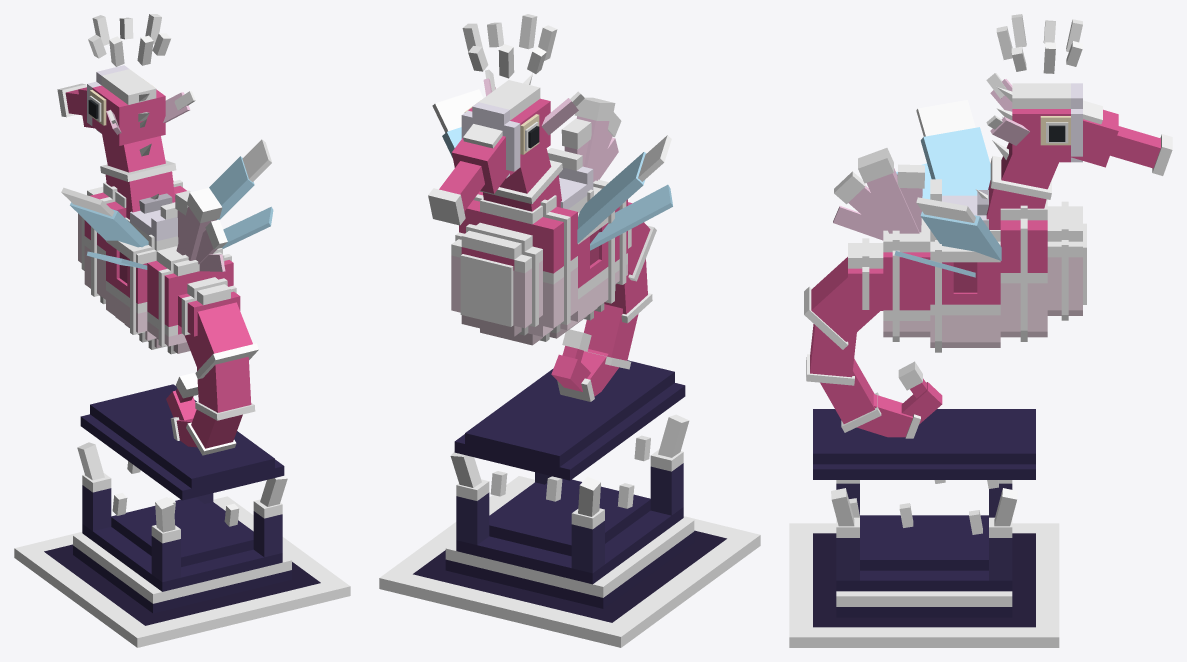
The model's file is SeahorseTrainer12.obj.
The picture shows the model from 3 angles, left to right: view 1: azimuth 30°, elevation 25°; view 2: azimuth 150°, elevation 25°; view 3: azimuth 270°, elevation 25°; orthographic projection. The views are drawn at different scales.
Parts seen in each view (by area): view 1: Stand, Body, Plate, Head, Wings, Fin, T1, T2, Crown, T3, Orbit, T5 (+1 smaller); view 2: Stand, Body, Plate, Head, Wings, Fin, Crown, T3, Orbit, T4, T2, T1 (+2 smaller); view 3: Stand, Body, Plate, Head, Wings, Fin, T1, Crown, T2, T3, T4, T5 (+2 smaller).
Part boxes in pixels (x1,y1,x2,y2): Stand: (14, 442, 350, 647); Body: (78, 119, 240, 354); Plate: (80, 384, 284, 500); Head: (57, 65, 195, 145); Wings: (61, 139, 273, 269); Fin: (175, 188, 227, 271); T1: (184, 302, 258, 379); T2: (195, 356, 255, 420); Crown: (88, 14, 170, 66); T3: (186, 409, 242, 455); Orbit: (112, 461, 239, 526); T5: (166, 390, 196, 420); Stand: (379, 414, 760, 647); Body: (451, 148, 635, 345); Plate: (454, 360, 685, 480); Head: (428, 69, 584, 225); Wings: (432, 89, 672, 250); Fin: (561, 97, 621, 181); Crown: (462, 14, 557, 78); T3: (584, 304, 638, 369); Orbit: (490, 435, 650, 508); T4: (557, 349, 618, 401); T2: (604, 259, 652, 323); T1: (628, 222, 656, 281); Stand: (789, 480, 1059, 647); Body: (848, 117, 1086, 352); Plate: (813, 409, 1035, 479); Head: (986, 73, 1172, 175); Wings: (894, 100, 1001, 277); Fin: (833, 148, 924, 240); T1: (804, 257, 883, 349); Crown: (996, 14, 1082, 73); T2: (806, 324, 856, 385); T3: (820, 358, 881, 432); T4: (857, 394, 920, 438); T5: (901, 382, 942, 424).
Size of the model in its own units: 9.2 by 21.18 by 13.06.
Materials: 1 (1 with a texture image).
